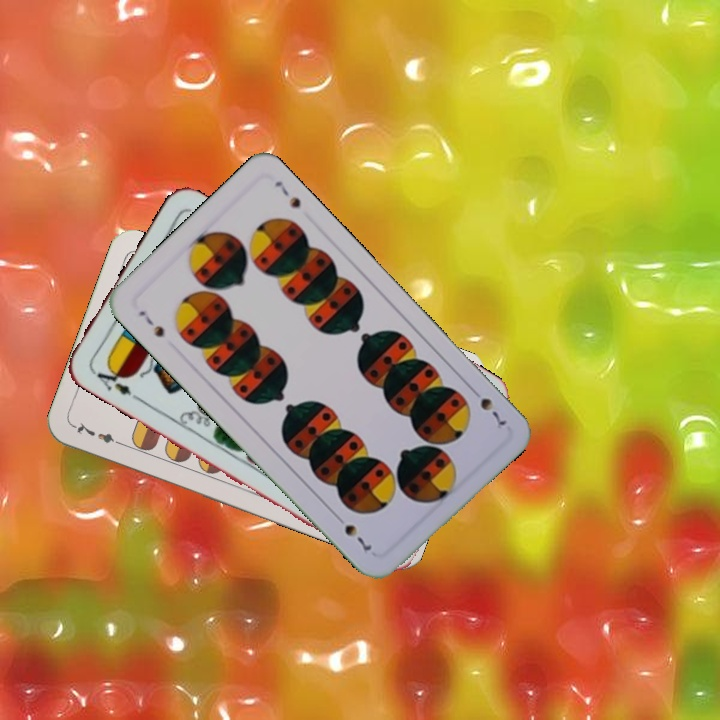E7: (69, 418, 127, 449)
EA: (88, 361, 142, 403)
S7: (466, 383, 509, 432), (134, 306, 167, 340)
